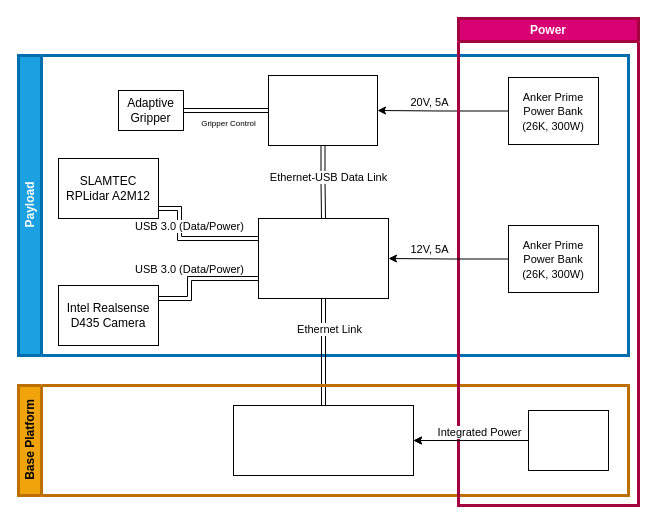
The diagram is 657 pixels wide and 524 high, and some of its shapes have lost their labels. Here are the shapes that lost their labels. From the top down, the box of each, then its label:
(268, 74, 378, 146): MyCobot 280pi
(258, 218, 388, 298): ASUS NUC
(232, 404, 414, 476): Leo Rover
(528, 410, 608, 470): Leo Rover Battery
